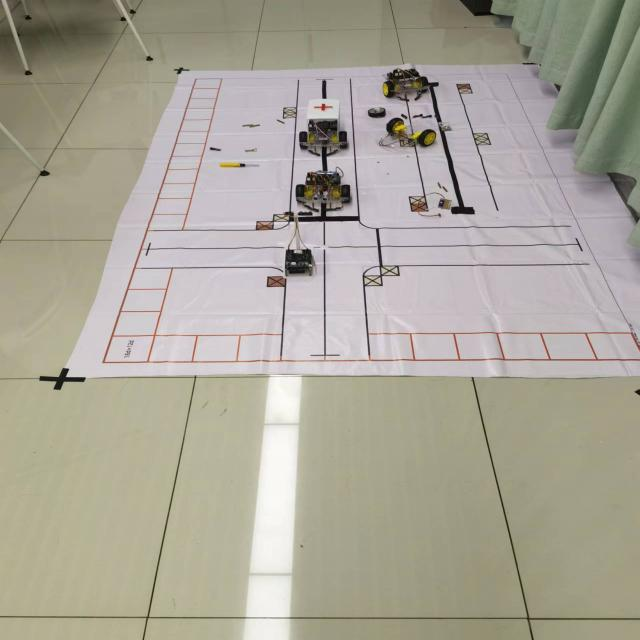RedCross: (312, 101, 336, 112)
